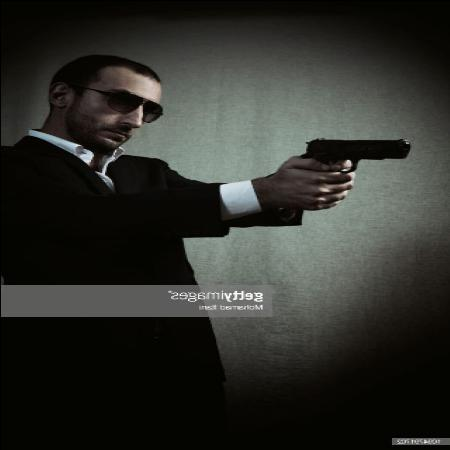Pistol: (300, 129, 421, 183)
